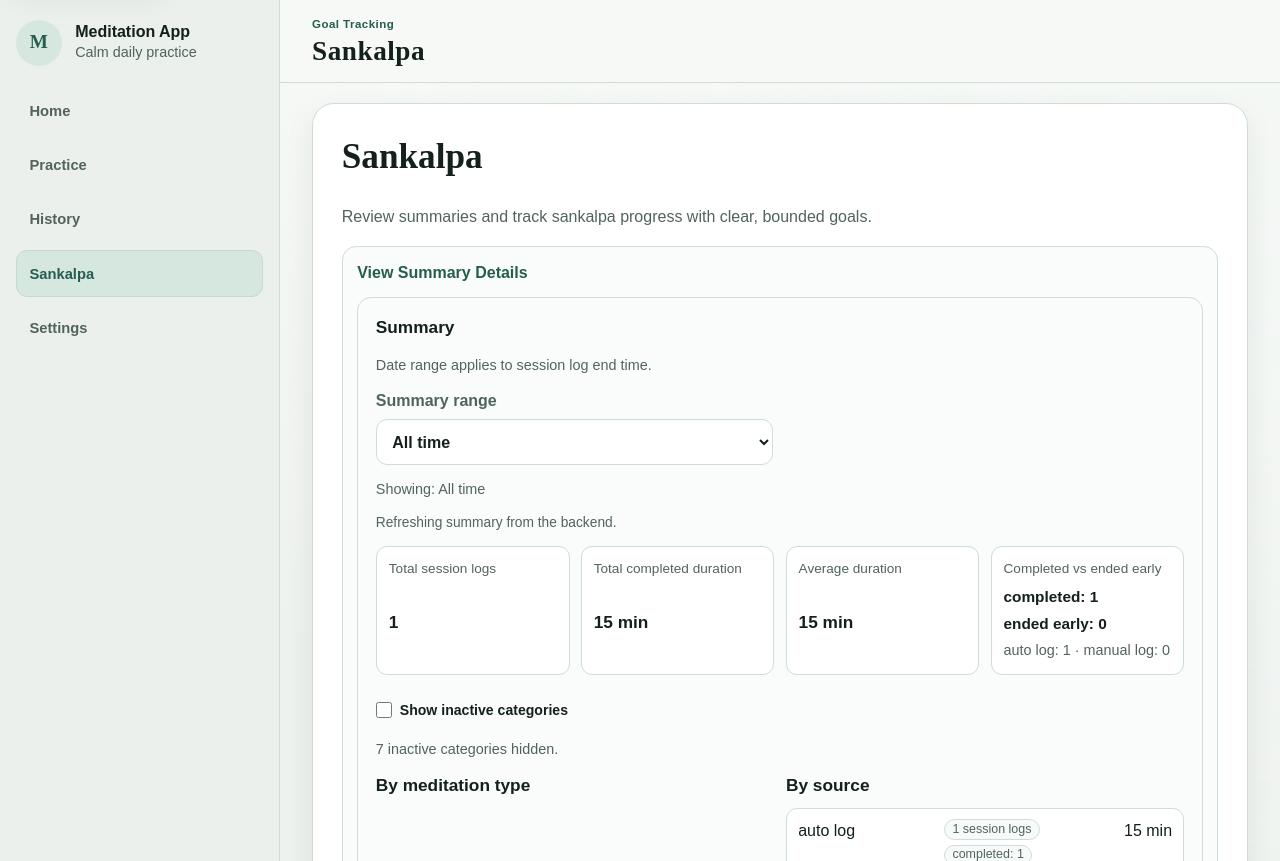
Test case: Sankalpa summary UX › hides inactive summary categories by default and reveals zero-duration rows when toggled
Expected: the text "7 inactive categories hidden." is shown, x1=376 y1=741 x2=558 y2=757
Expected: the text "ajapa" is not shown
Click the checkbox labelled "Show inactive categories": (384, 710) x1=376 y1=688 x2=392 y2=733
(page scrolled)
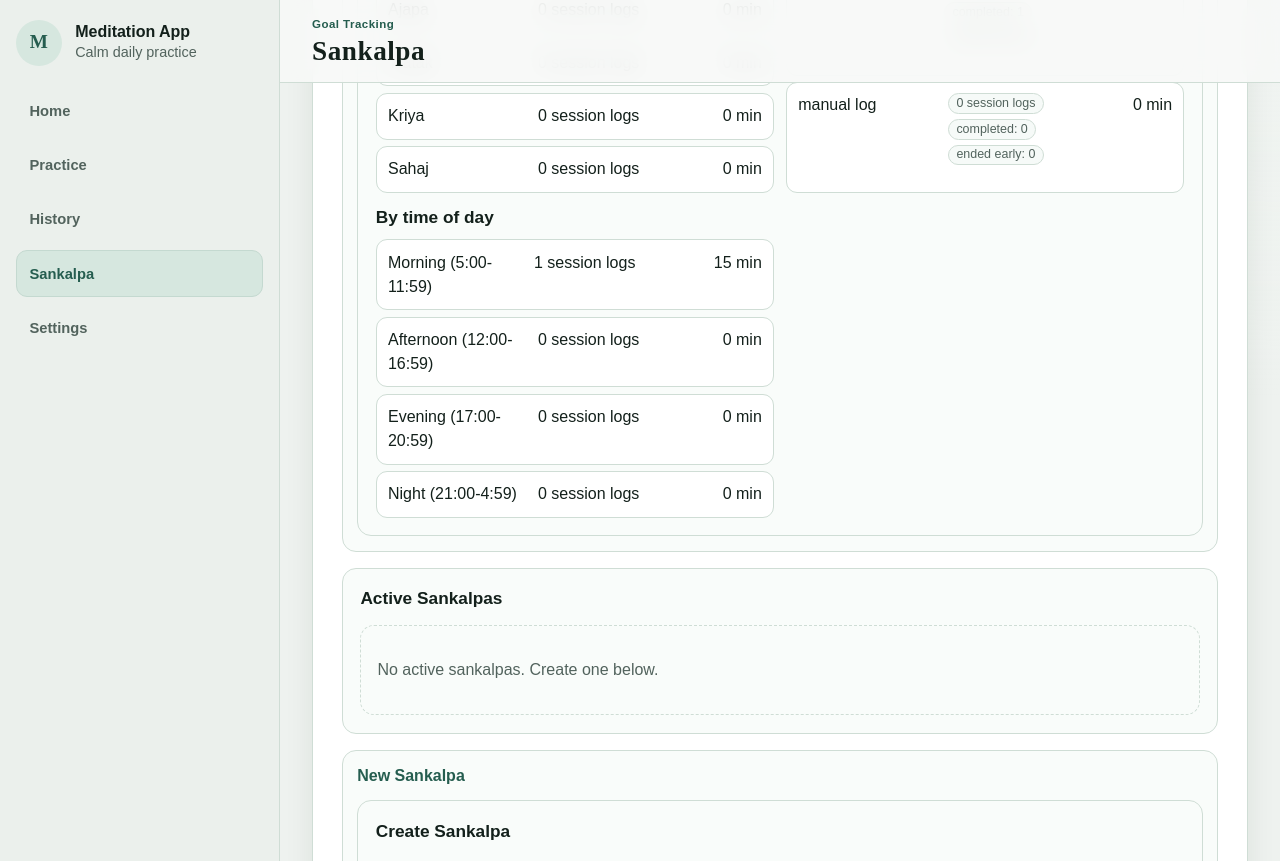
Result: the list item "Night (21:00-4:59) 0 session logs 0 min" is shown at x1=376 y1=471 x2=774 y2=518
Result: the text "0 min" in the row of "Night (21:00-4:59)" is shown at x1=723 y1=485 x2=762 y2=502
